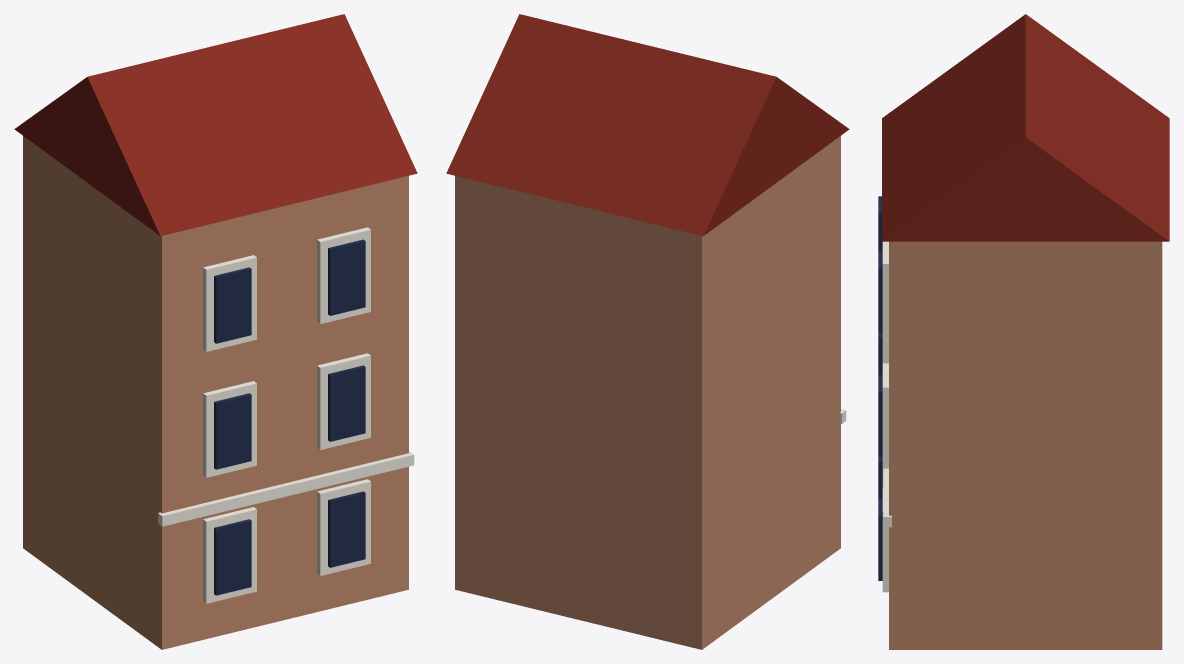
The model's file is kamienica_wwa_1.glb.
3 views of the same model, side by side, from view 1: azimuth 30°, elevation 25°; view 2: azimuth 150°, elevation 25°; view 3: azimuth 270°, elevation 25° (orthographic).
Visible parts, largest first — view 1: kamienica_wwa_1; view 2: kamienica_wwa_1; view 3: kamienica_wwa_1.
Part boxes in pixels (left/top/right/bottom): kamienica_wwa_1: left=14, top=14, right=417, bottom=649; kamienica_wwa_1: left=446, top=14, right=849, bottom=649; kamienica_wwa_1: left=878, top=14, right=1169, bottom=649.
Size of the model in its own units: 2.03 by 3.95 by 2.02.
